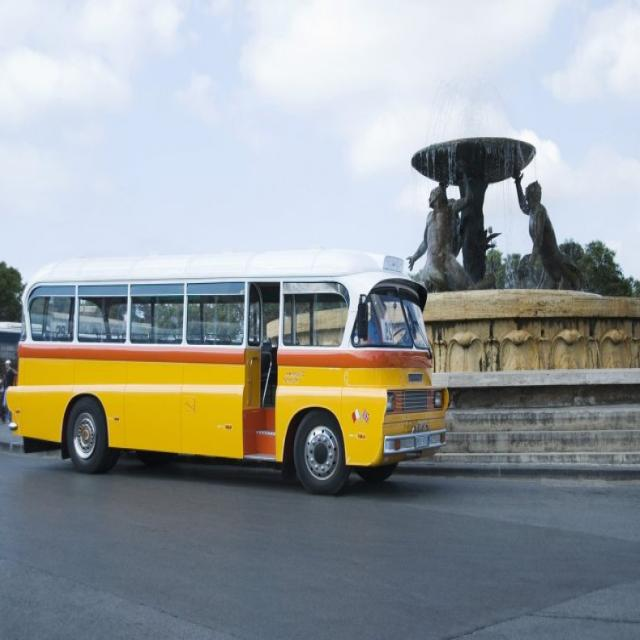bus: (6, 249, 449, 493)
